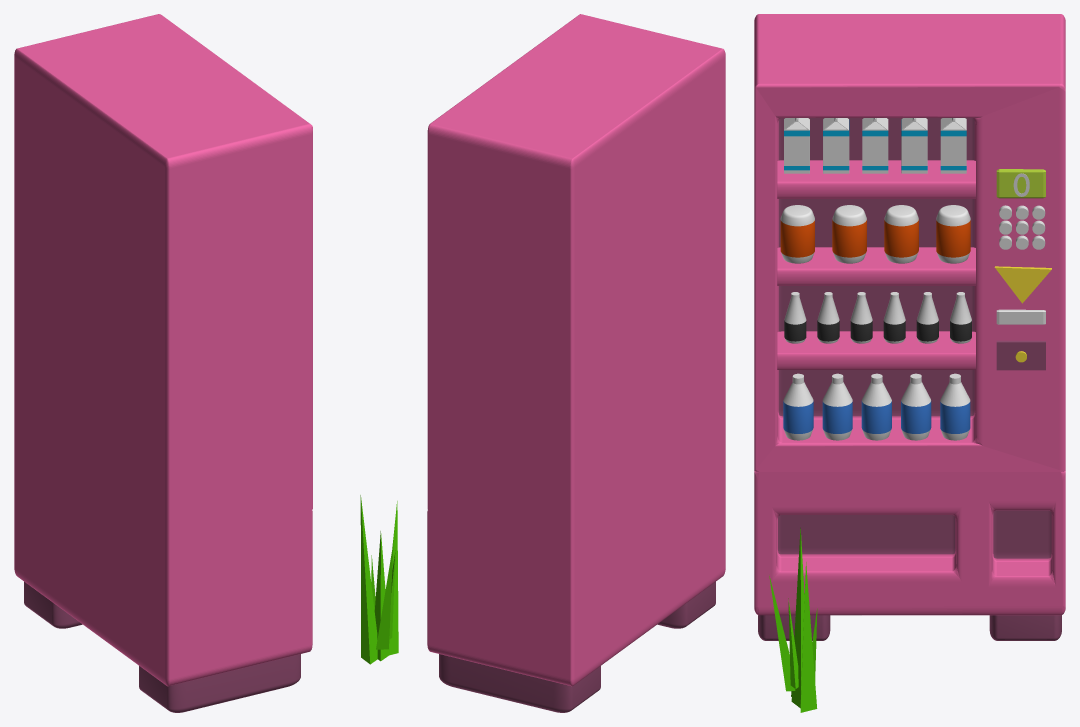
The model's file is fending_machine2.gltf.
3 views of the same model, side by side, from view 1: azimuth 30°, elevation 25°; view 2: azimuth 150°, elevation 25°; view 3: azimuth 270°, elevation 25° (orthographic).
Visible parts, largest first — view 1: machine, machine_leg, grass; view 2: machine, machine_leg; view 3: machine, grass, machine_leg, soda, soda.001, soda.003, soda.002, water, water.001, water.004, water.002, water.003 (+15 smaller).
Boxes of the visible parts, x1=… form: machine: x1=14, y1=14, x2=312, y2=686; machine_leg: x1=24, y1=581, x2=300, y2=712; grass: x1=360, y1=495, x2=398, y2=664; machine: x1=427, y1=14, x2=725, y2=686; machine_leg: x1=439, y1=582, x2=715, y2=712; machine: x1=754, y1=14, x2=1065, y2=615; grass: x1=769, y1=527, x2=817, y2=712; machine_leg: x1=758, y1=615, x2=1061, y2=640; soda: x1=780, y1=205, x2=814, y2=263; soda.001: x1=832, y1=205, x2=866, y2=263; soda.003: x1=936, y1=205, x2=970, y2=263; soda.002: x1=884, y1=205, x2=918, y2=263; water: x1=783, y1=373, x2=813, y2=440; water.001: x1=822, y1=373, x2=852, y2=440; water.004: x1=940, y1=373, x2=970, y2=440; water.002: x1=861, y1=373, x2=891, y2=440; water.003: x1=901, y1=373, x2=931, y2=440.
Size of what is drawn, in the model's own units: 3.04 by 6.54 by 3.19.
